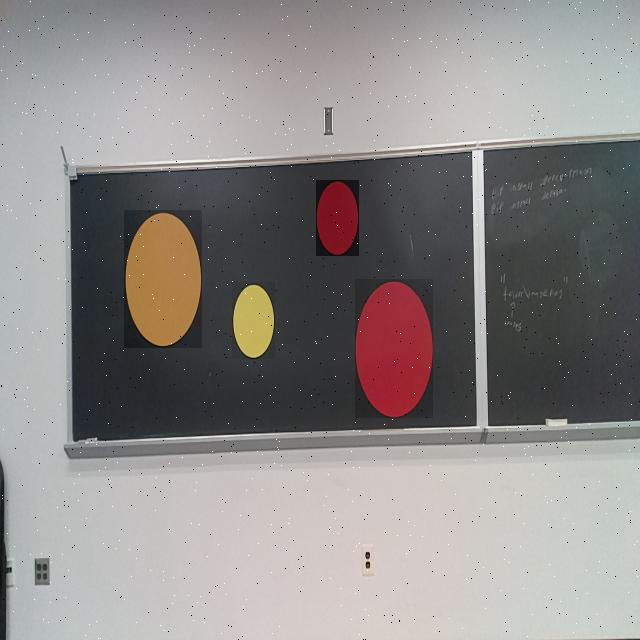Orange: (124, 210, 202, 348)
Red: (355, 279, 433, 418), (316, 180, 359, 256)
Yellow: (232, 282, 275, 359)
